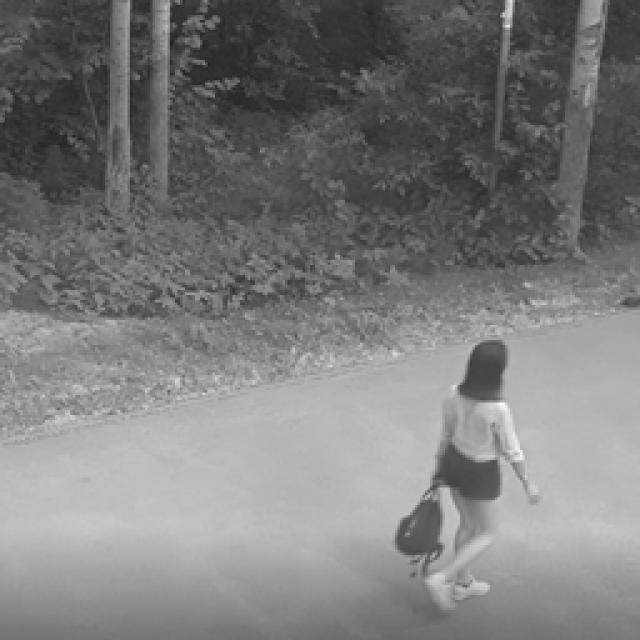Invader: (418, 335, 542, 610)
